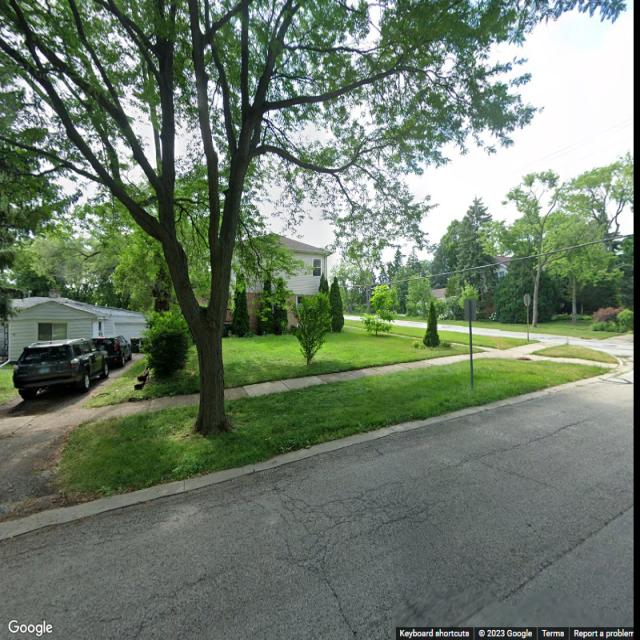House: (213, 231, 334, 338), (0, 296, 147, 369)
